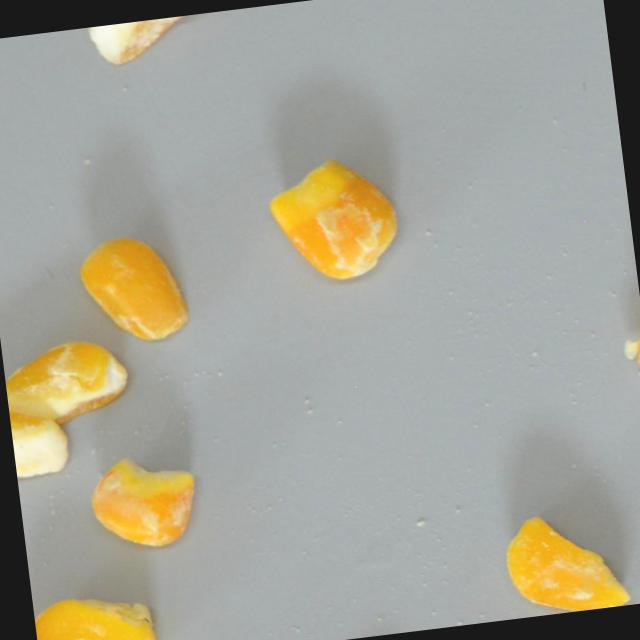dañado: (259, 148, 411, 292), (492, 501, 636, 620), (69, 228, 194, 351), (82, 444, 209, 557), (1, 330, 138, 432), (74, 12, 210, 71), (608, 267, 640, 385)
punto_negro: (32, 581, 163, 640), (8, 394, 74, 481)
